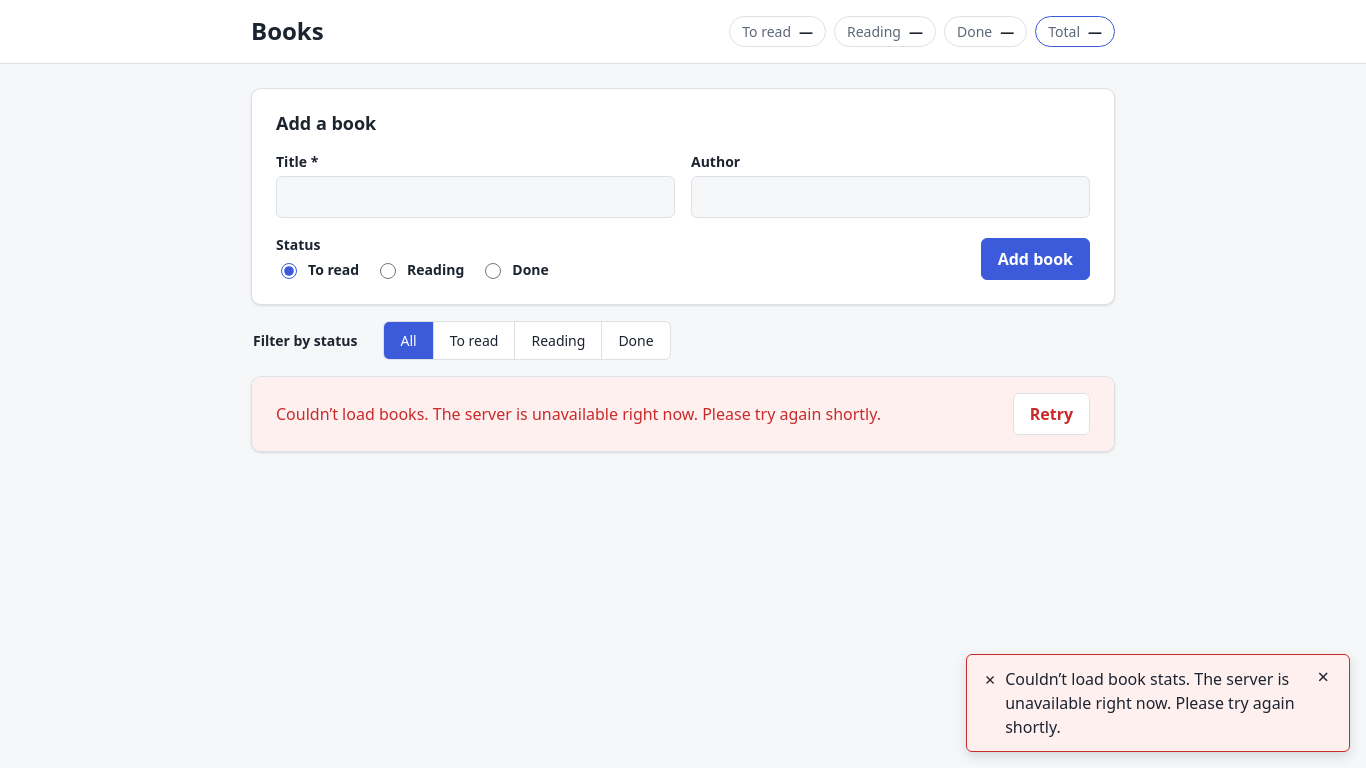
Test: BookList retry › Retry also refreshes the stats
Expected: the text "The server is unavailable right now" is shown, [1005,668,1295,738]
Expected: the text with test id "stat-total" next to "Total" reads "—", [1088,22,1102,41]
Click the button "Retry" at (1051, 414), box [1013,393,1090,435]
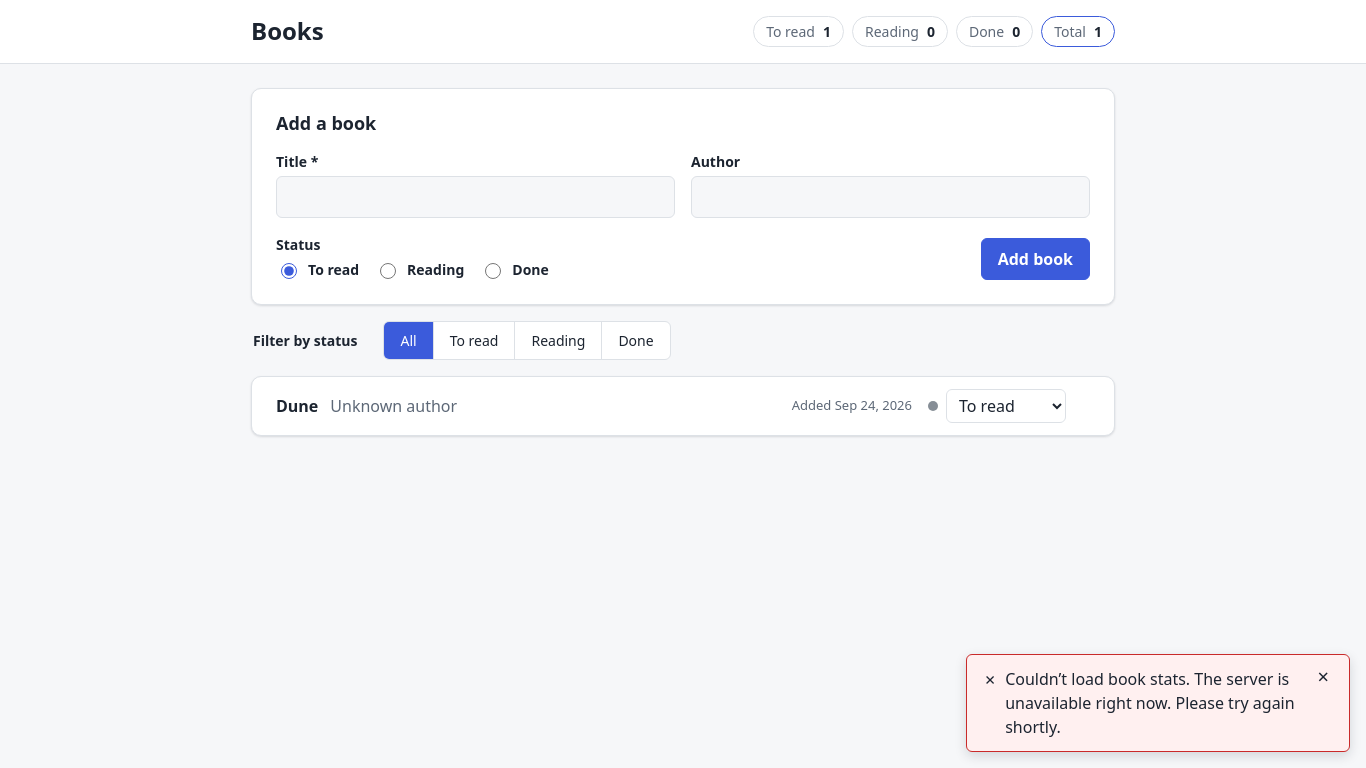
Expected: the text with test id "stat-total" next to "Total" reads "1", [1094,22,1102,41]
